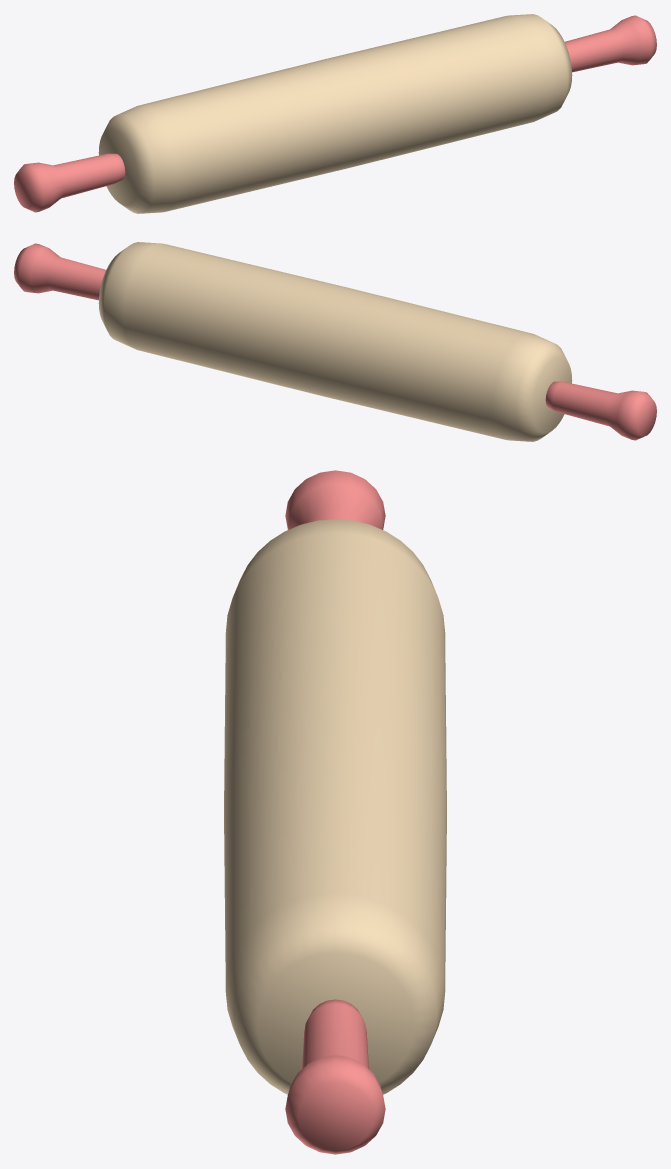
File: RollingPin.glb
3 renders of one model, top to bottom at view 1: azimuth 30°, elevation 25°; view 2: azimuth 150°, elevation 25°; view 3: azimuth 270°, elevation 25°, orthographic. The views are drawn at different scales.
Visible parts, largest first — view 1: Pin, Handles; view 2: Pin, Handles; view 3: Pin, Handles.
Part boxes in pixels (bbox=[...]): Pin: bbox=[98, 14, 572, 213]; Handles: bbox=[14, 15, 656, 212]; Pin: bbox=[98, 242, 572, 441]; Handles: bbox=[14, 243, 656, 440]; Pin: bbox=[224, 519, 446, 1094]; Handles: bbox=[285, 470, 385, 1154].
Size of the model in its own units: 23.04 by 3.56 by 3.56.
